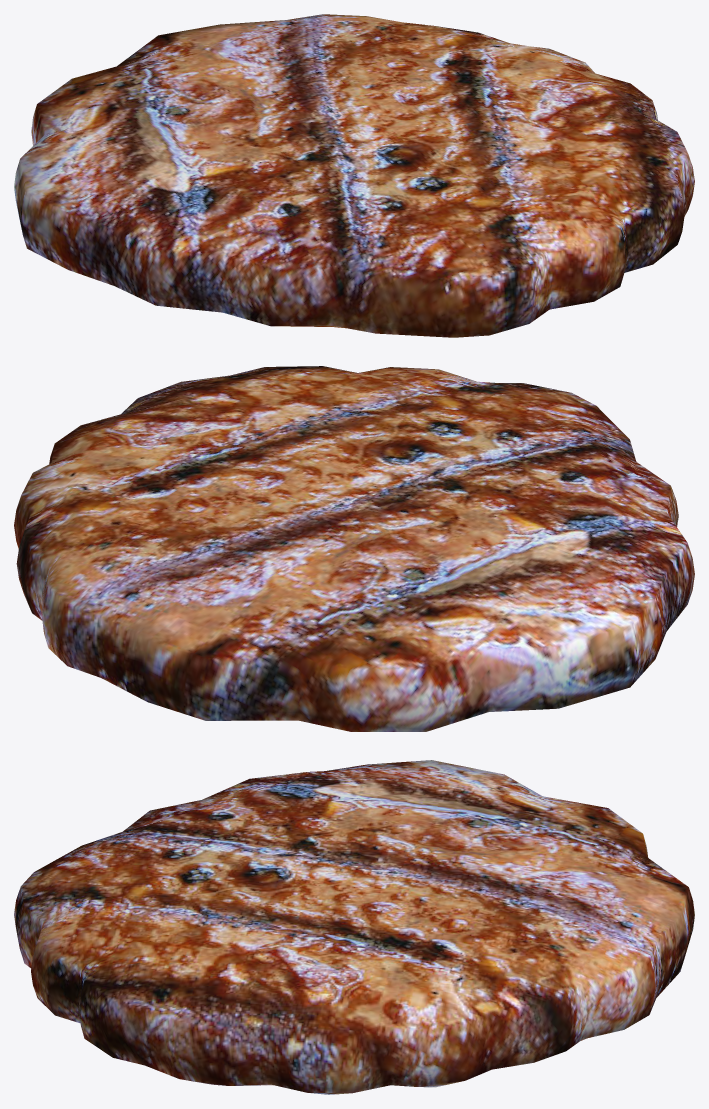
File: beef.fbx
3 renders of one model, top to bottom at view 1: azimuth 30°, elevation 25°; view 2: azimuth 150°, elevation 25°; view 3: azimuth 270°, elevation 25°, orthographic. The views are drawn at different scales.
Visible parts, largest first — view 1: Sphere; view 2: Sphere; view 3: Sphere.
Part boxes in pixels (x1=…): Sphere: x1=14, y1=14, x2=694, y2=337; Sphere: x1=14, y1=366, x2=694, y2=731; Sphere: x1=14, y1=760, x2=694, y2=1094.
Bounding box in the file's own units: 381 × 66.55 × 388.
1 material, 1 textured.
